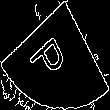P_NE: (32, 25, 78, 85)
